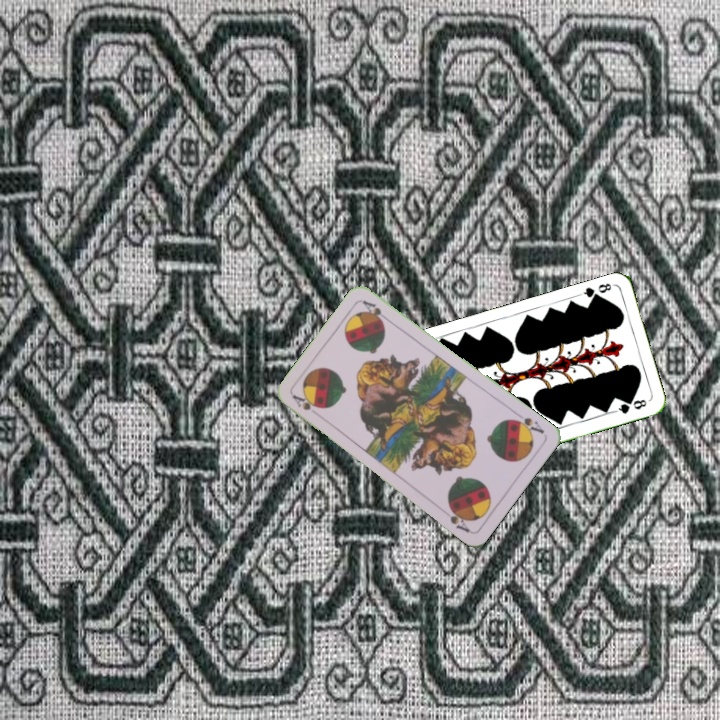G8: (576, 279, 615, 303)
SA: (508, 409, 547, 437), (288, 391, 321, 413)
